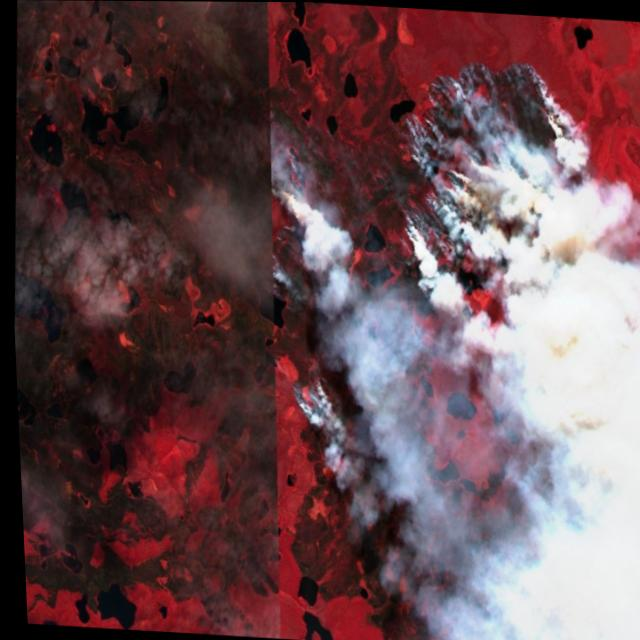fire: (383, 52, 597, 282), (253, 84, 354, 273), (274, 350, 349, 451)
